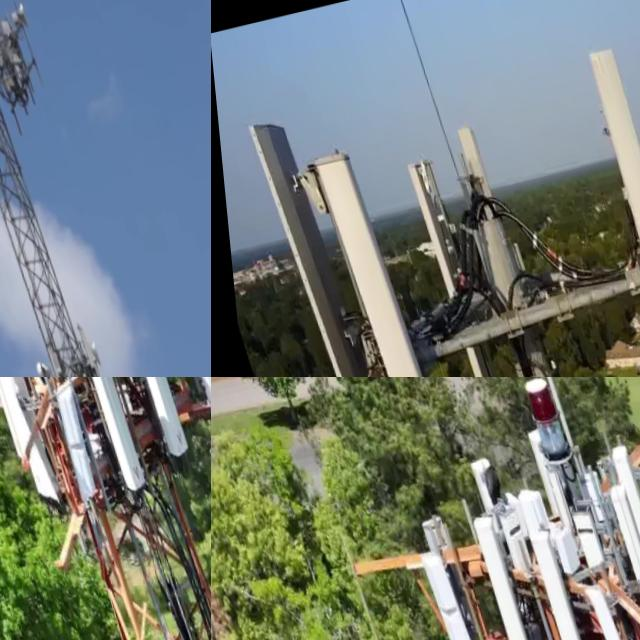GSM Antenna: (238, 116, 376, 377), (288, 136, 413, 377), (396, 147, 498, 377), (584, 41, 640, 274), (61, 377, 146, 499), (516, 520, 600, 640), (463, 512, 539, 640), (602, 434, 640, 640), (40, 381, 98, 511), (107, 377, 188, 466), (0, 377, 57, 503), (408, 540, 475, 640), (601, 484, 640, 640), (447, 120, 492, 206), (576, 581, 638, 640), (170, 377, 211, 415), (69, 332, 92, 377)
Microwave Antenna: (3, 0, 33, 38), (19, 353, 50, 377), (78, 340, 97, 371)
